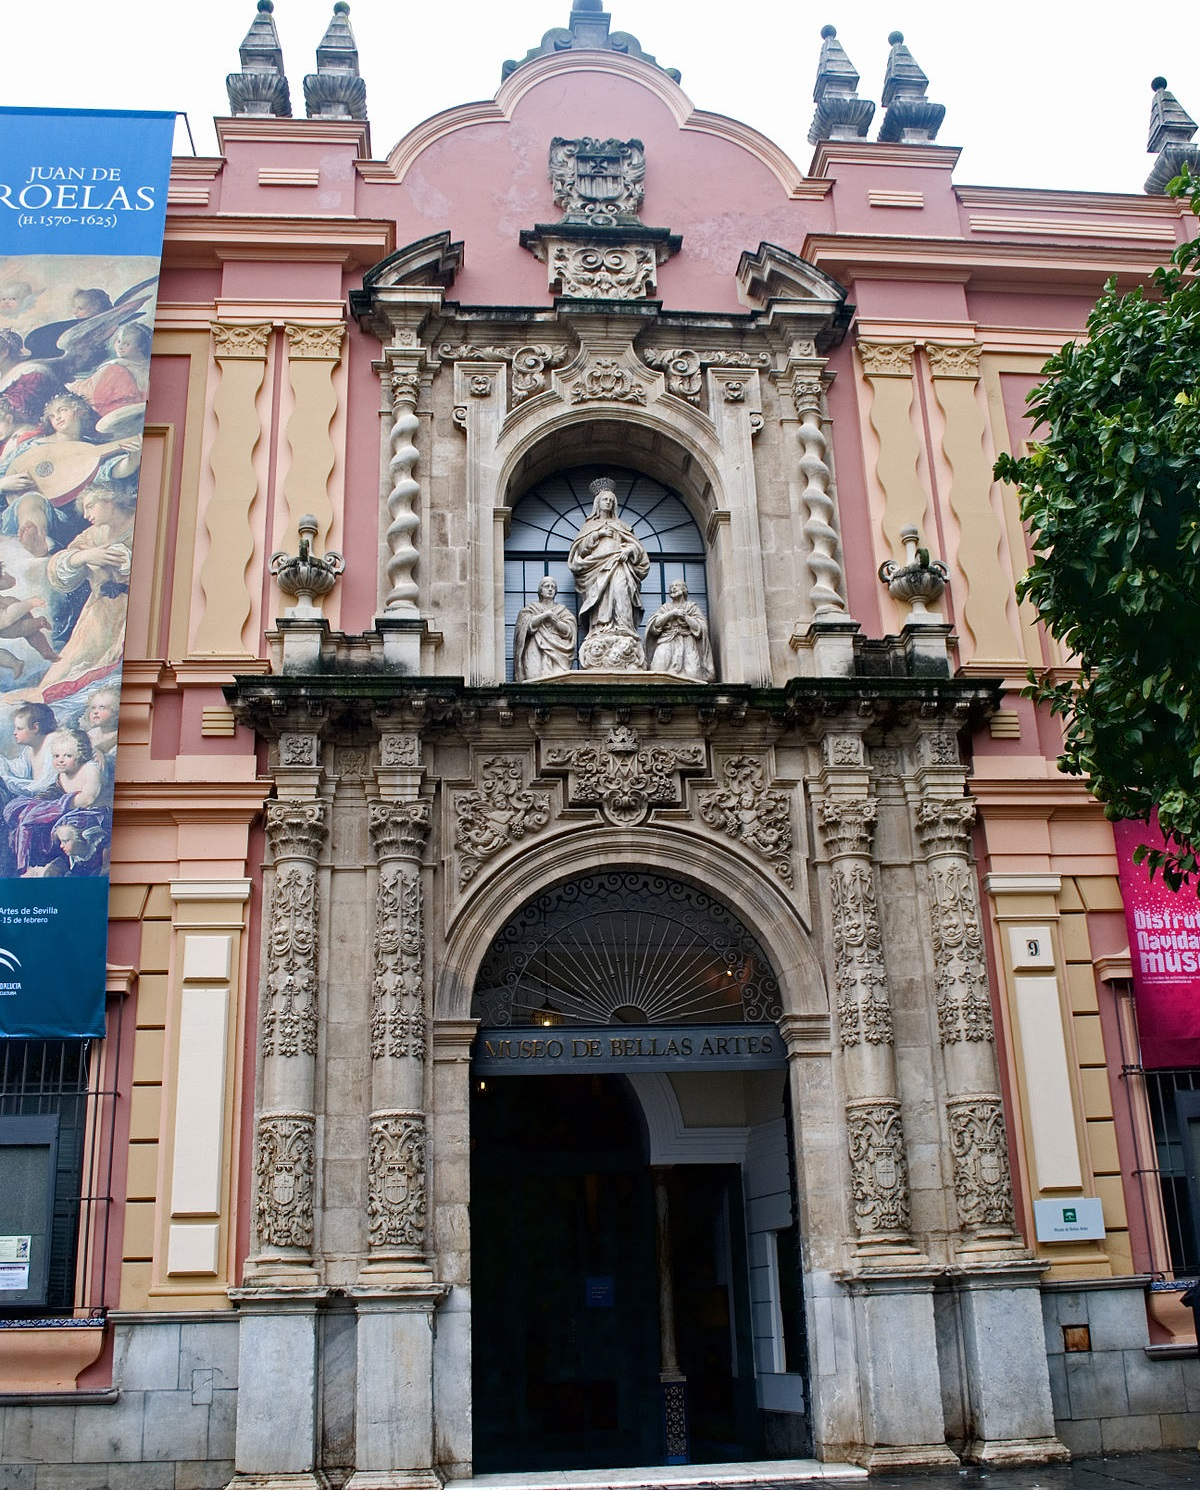arco-medio-punto: (441, 833, 817, 1093), (491, 402, 733, 537)
columna-salomonica: (790, 404, 855, 626), (384, 394, 425, 618)
fronton-partido: (353, 220, 857, 329)
